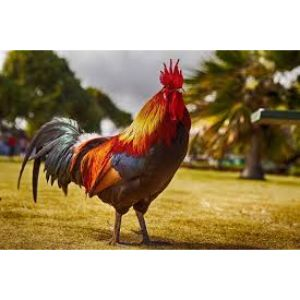hen: (17, 55, 207, 246)
